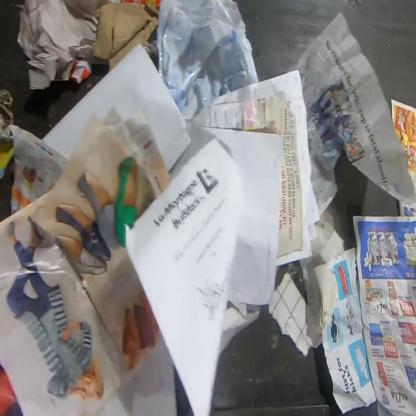cardboard: (90, 1, 158, 74)
soft_plastic: (154, 0, 260, 121)
